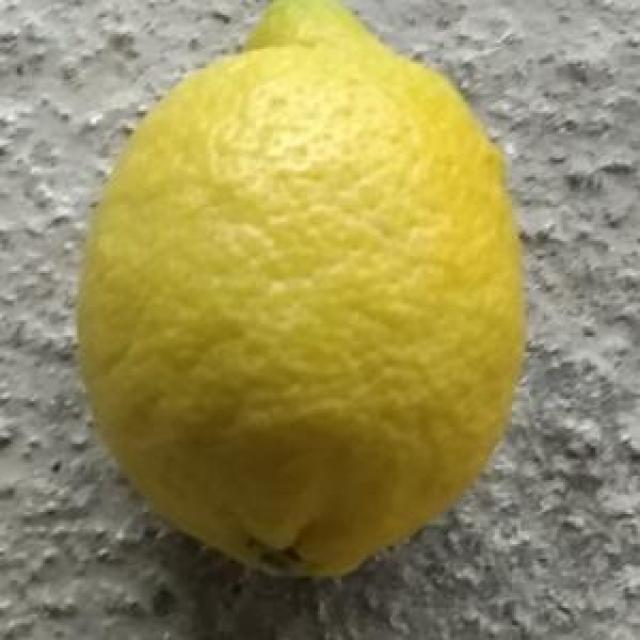lemon: (73, 4, 531, 589)
